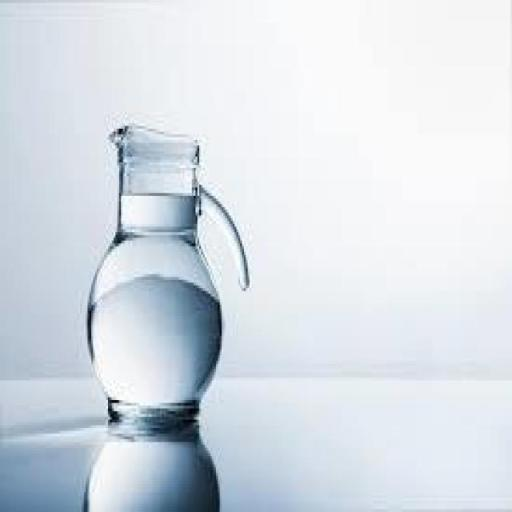glass: (78, 116, 254, 442)
